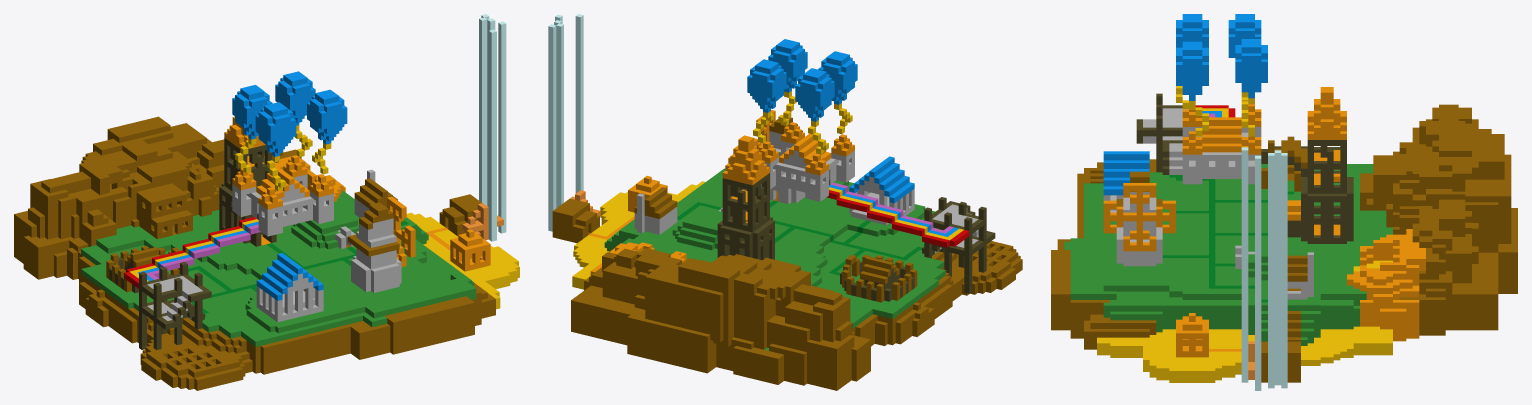
The model's file is worldmap.obj.
The picture shows the model from 3 angles, left to right: view 1: azimuth 30°, elevation 25°; view 2: azimuth 150°, elevation 25°; view 3: azimuth 270°, elevation 25°; orthographic projection. The views are drawn at different scales.
Size of the model in its own units: 8 by 4 by 7.1.
Materials: 1 (1 with a texture image).
